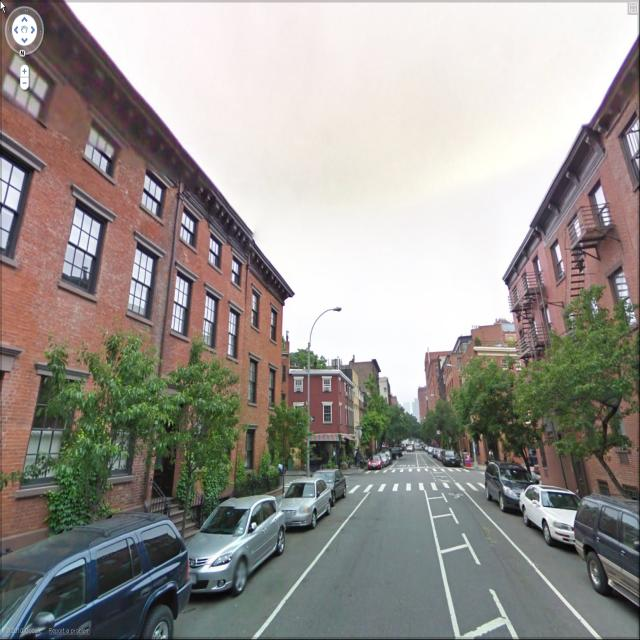b_1: (297, 356, 362, 461)
b_2: (0, 1, 184, 534), (498, 16, 640, 543), (161, 178, 252, 534), (247, 240, 291, 496), (439, 354, 494, 471), (418, 344, 476, 451)
